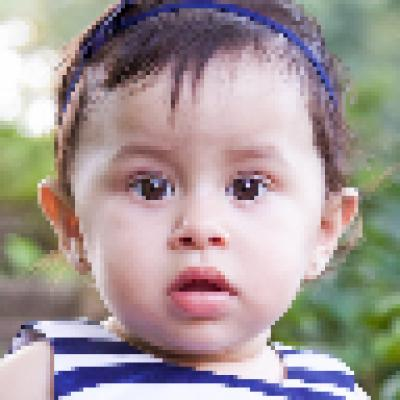surprise: (77, 52, 327, 350)
